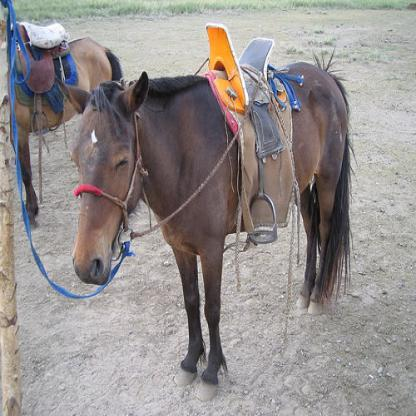horse: (54, 44, 359, 403), (7, 20, 122, 233)
